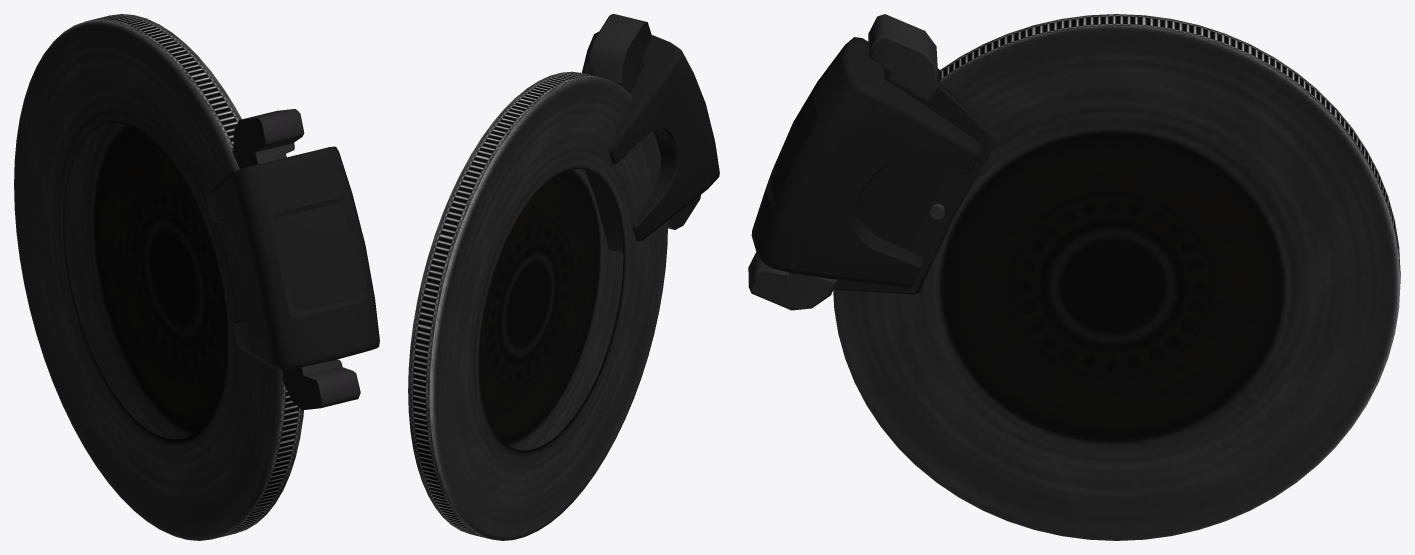
File: frontbrakes_oem.glb
3 views of the same model, side by side, from view 1: azimuth 30°, elevation 25°; view 2: azimuth 150°, elevation 25°; view 3: azimuth 270°, elevation 25° (orthographic). The views are drawn at different scales.
Parts seen in each view (by area): view 1: Disk, Caliper, Pads; view 2: Disk, Caliper, Pads; view 3: Disk, Caliper, Pads.
Part boxes in pixels (bbox=[...]): Disk: bbox=[14, 14, 303, 540]; Caliper: bbox=[206, 146, 379, 370]; Pads: bbox=[232, 109, 360, 410]; Disk: bbox=[408, 71, 667, 540]; Caliper: bbox=[582, 31, 719, 241]; Pads: bbox=[585, 14, 700, 252]; Disk: bbox=[833, 14, 1400, 540]; Caliper: bbox=[751, 37, 981, 288]; Pads: bbox=[748, 14, 997, 310].
Size of the model in its own units: 0.067 by 0.3004 by 0.3448.
3 materials, 2 textured.
